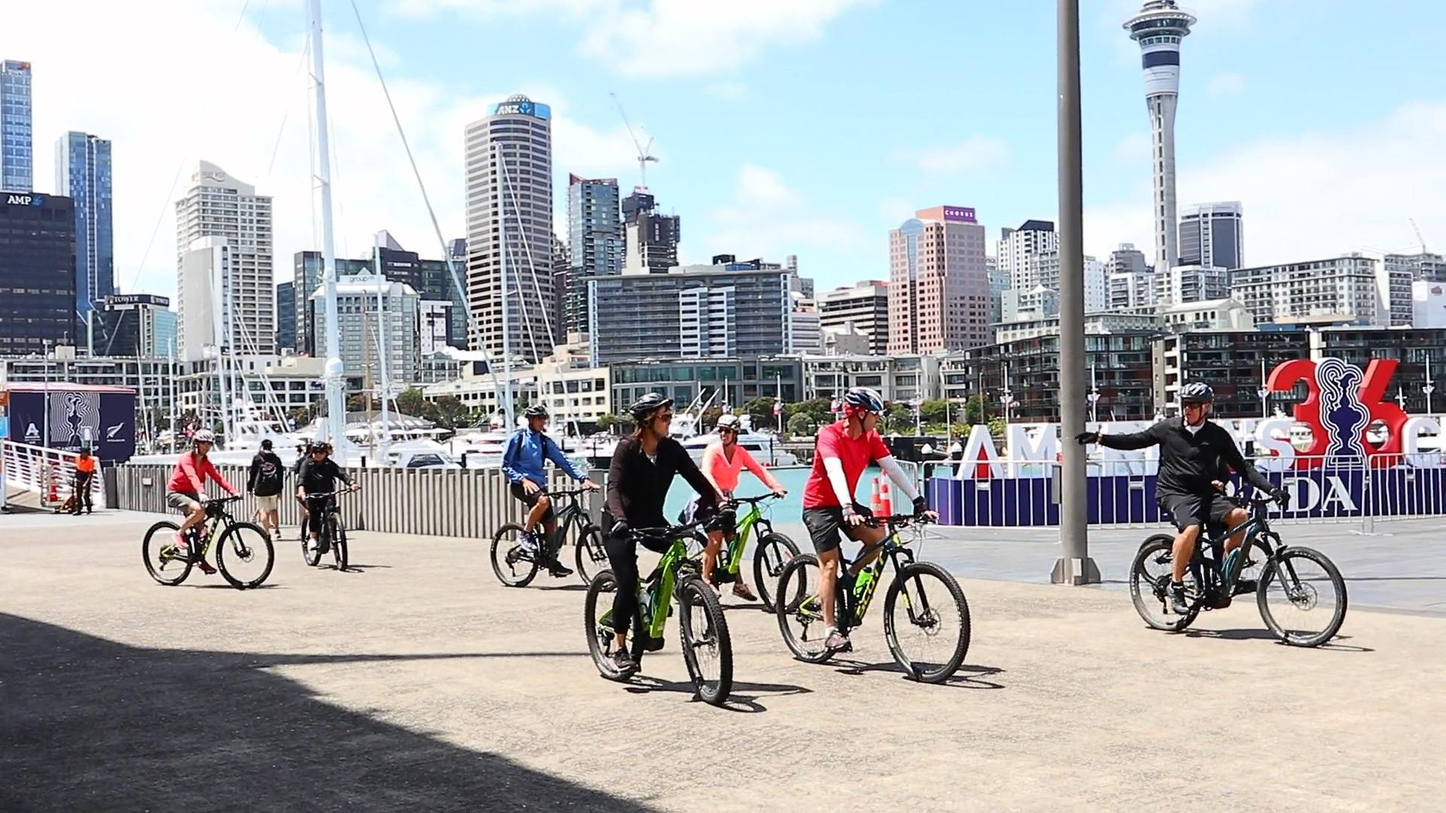bicyclist: (1075, 381, 1347, 648), (775, 387, 970, 684), (584, 392, 733, 705), (682, 414, 807, 614), (490, 403, 616, 592), (143, 430, 275, 589), (295, 440, 362, 571)
helmet: (628, 392, 674, 438), (843, 387, 884, 434), (1177, 381, 1214, 427), (717, 415, 741, 447), (525, 403, 549, 432), (192, 430, 216, 456)
